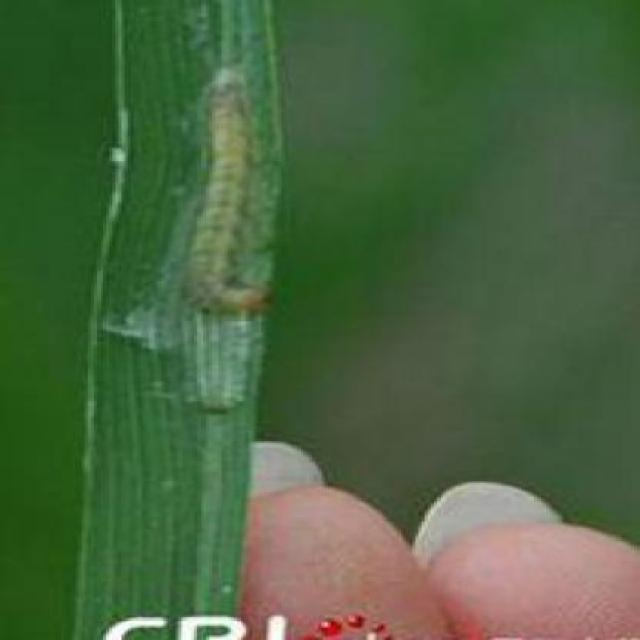leaf-folder: (152, 54, 326, 360)
